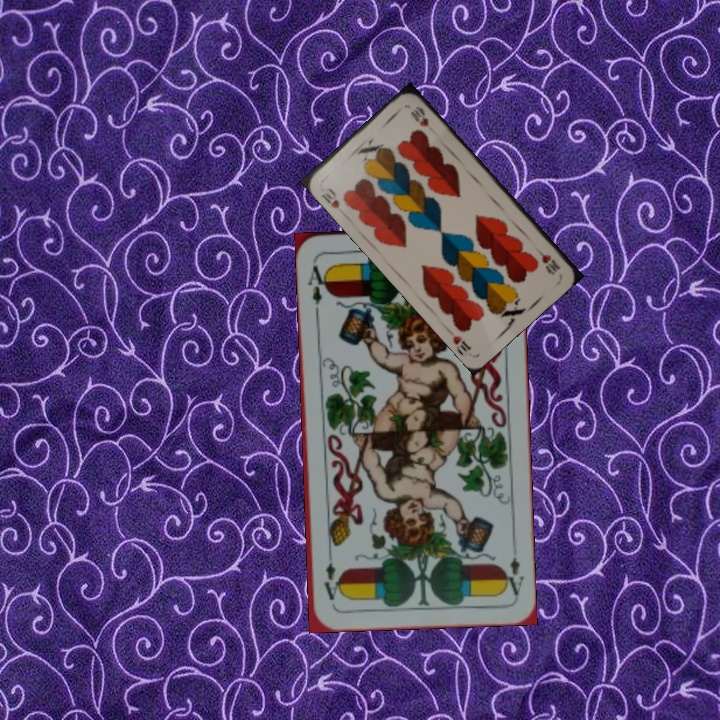EA: (304, 257, 330, 316), (500, 553, 527, 598)
H10: (531, 243, 562, 276), (318, 184, 342, 211)
